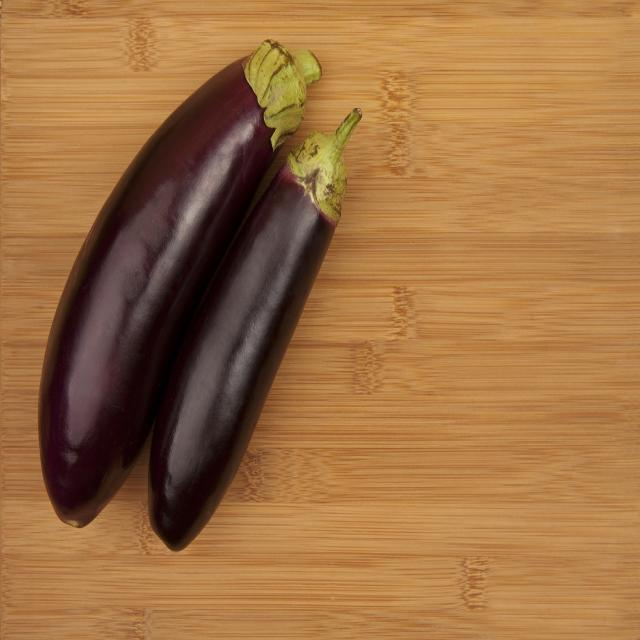eggplant: (38, 30, 317, 528), (146, 104, 364, 548)
